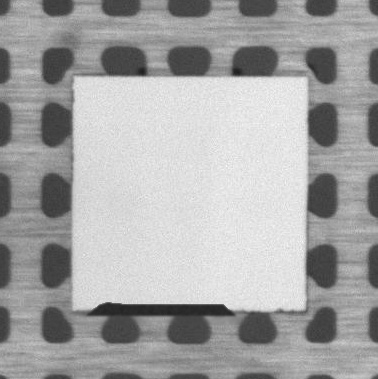DIE_BROKEN: (84, 299, 236, 316)
